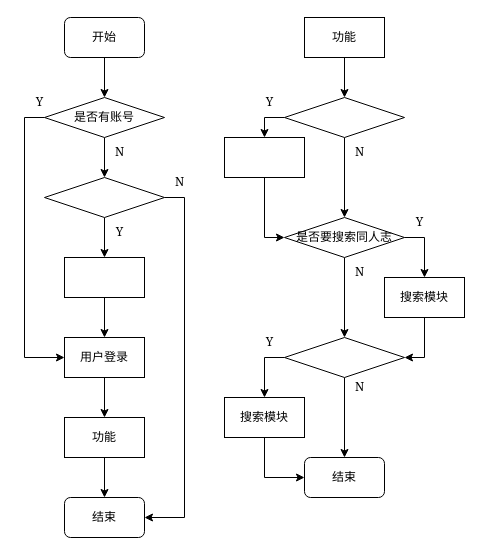
The diagram is 482 pixels wide and 555 high, and some of its shapes have lost their labels. Here are the shapes that lost their labels. From the top down, the centre of each, then its label:
At (x=344, y=117): "是否要浏览同人志".
At (x=264, y=157): "浏览模块".
At (x=104, y=197): "是否要新建账号".
At (x=104, y=277): "创建账号".
At (x=344, y=357): "是否要搜索作者".
